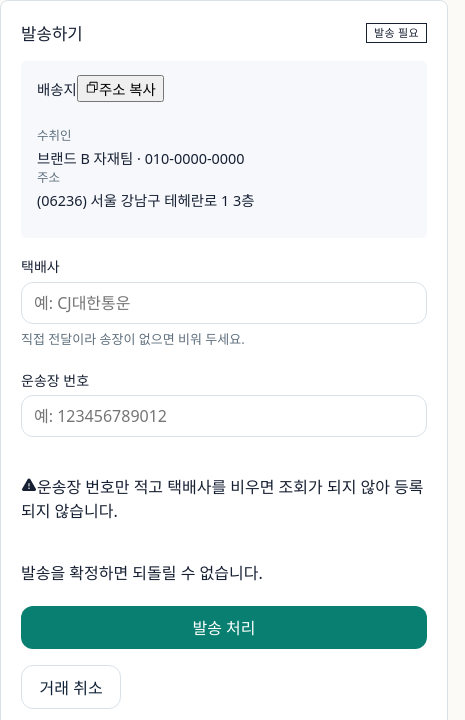
it: 배송지 복사 › 복사했다는 사실을 알린다
Click the button "주소 복사": [120, 88] box [77, 75, 164, 102]
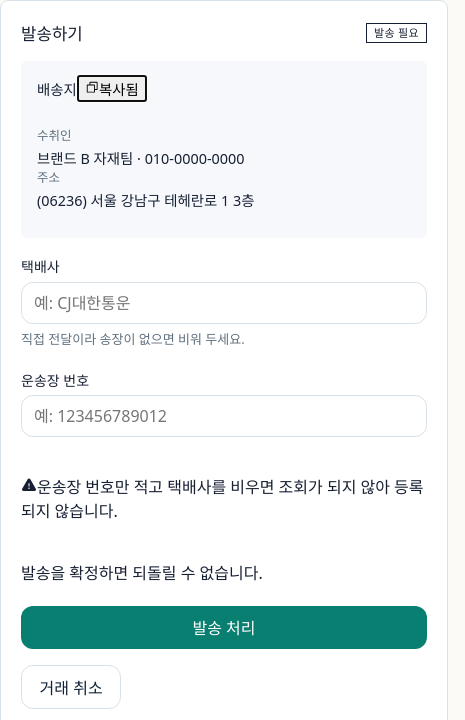
Expected: the button "복사됨" is shown, [77, 75, 147, 102]
